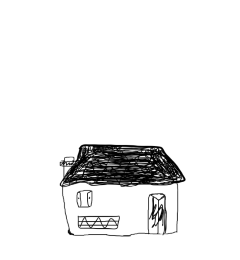bottom_placed_house: (3, 3, 240, 260)
chimney: (58, 153, 82, 183)
closed_window: (74, 213, 124, 232)
door: (142, 191, 173, 239)
open_window: (74, 189, 94, 211)
shaded_roof: (51, 138, 190, 189)
small_house: (1, 3, 240, 260)
wall: (59, 179, 180, 239)
